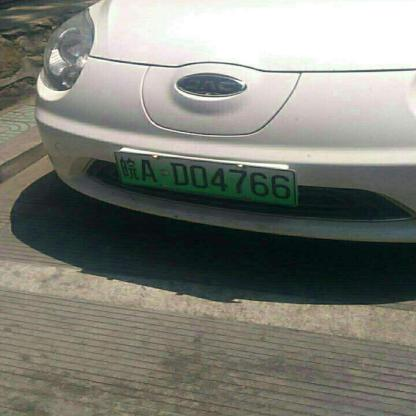lp: (114, 152, 295, 204)
